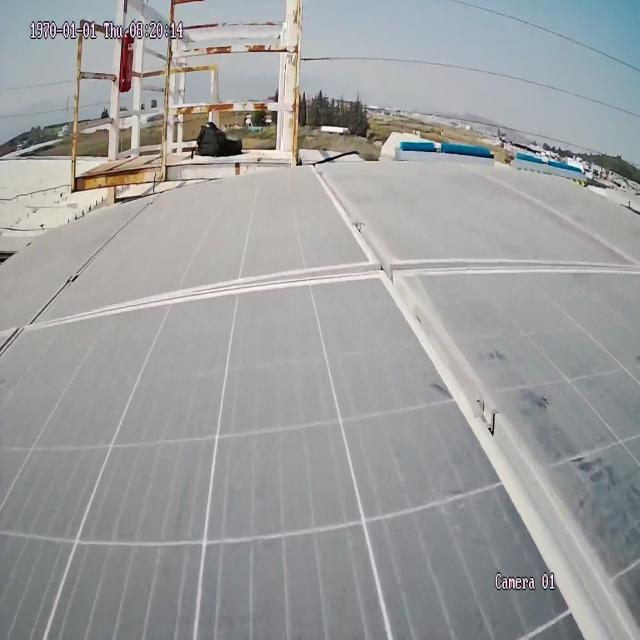interior panel: (0, 164, 640, 640)
